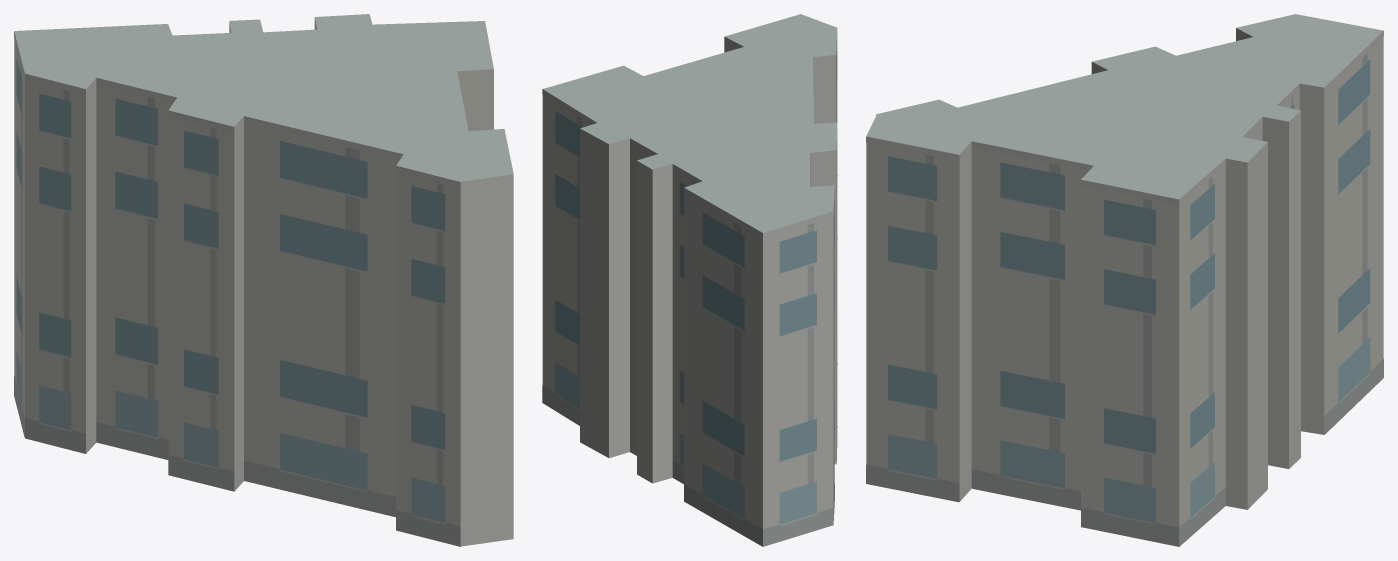
File: survey-upis-32523958.glb
3 views of the same model, side by side, from view 1: azimuth 30°, elevation 25°; view 2: azimuth 150°, elevation 25°; view 3: azimuth 270°, elevation 25° (orthographic). The views are drawn at different scales.
Parts seen in each view (by area): view 1: survey-upis-32523958.tmp; view 2: survey-upis-32523958.tmp; view 3: survey-upis-32523958.tmp.
Part boxes in pixels (bbox=[...]): survey-upis-32523958.tmp: bbox=[14, 14, 513, 546]; survey-upis-32523958.tmp: bbox=[542, 14, 837, 546]; survey-upis-32523958.tmp: bbox=[866, 14, 1383, 546].
Size of the model in its own units: 15.35 by 13.4 by 18.1.
